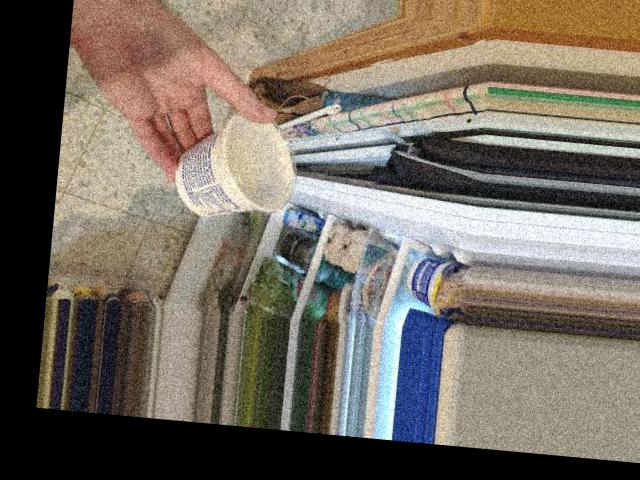cotage: (168, 113, 299, 215)
